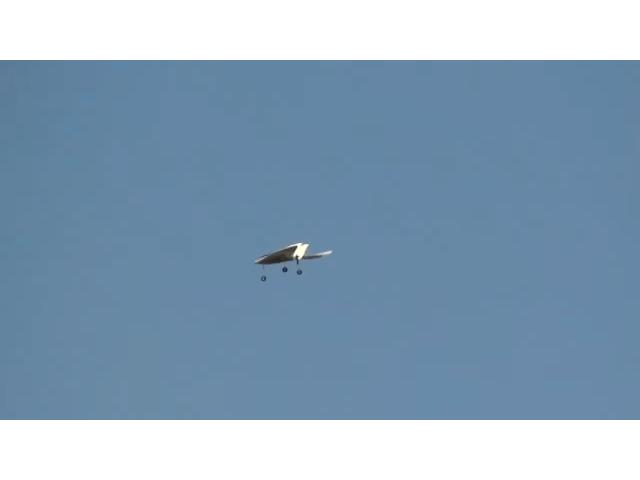Anti-Drone: (256, 243, 332, 265)
